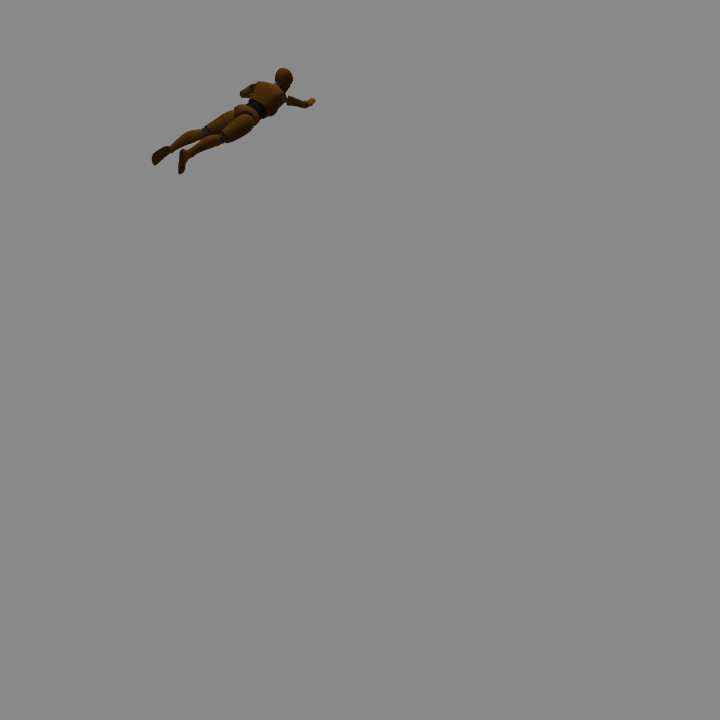victim: (153, 67, 315, 172)
